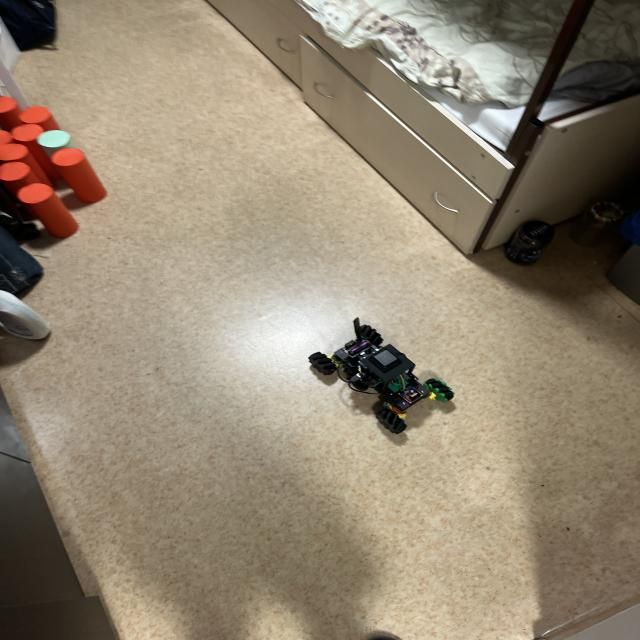robot: (309, 318, 454, 434)
